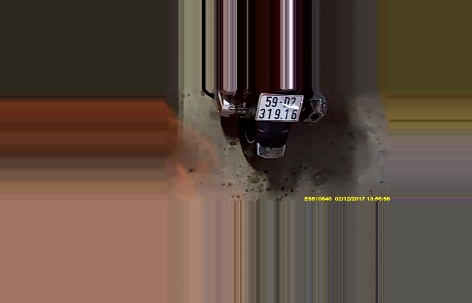plate: (255, 89, 300, 123)
